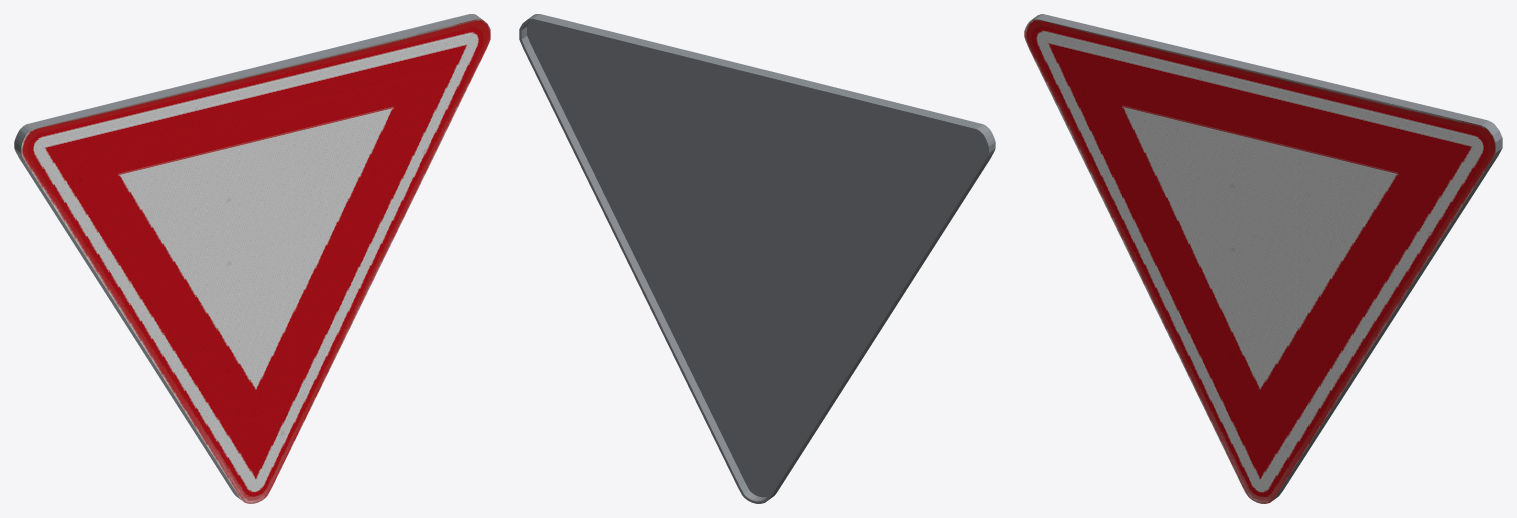
The picture shows the model from 3 angles, left to right: view 1: azimuth 30°, elevation 25°; view 2: azimuth 150°, elevation 25°; view 3: azimuth 330°, elevation 25°; orthographic projection.
Parts seen in each view (by area): view 1: cat_7ec01eb12187f832; view 2: cat_7ec01eb12187f832; view 3: cat_7ec01eb12187f832.
Part boxes in pixels (left/top/right/bottom): cat_7ec01eb12187f832: left=14, top=14, right=490, bottom=503; cat_7ec01eb12187f832: left=519, top=14, right=995, bottom=503; cat_7ec01eb12187f832: left=1024, top=14, right=1502, bottom=503.
Size of the model in its own units: 0.6 by 0.015 by 0.5256.
Materials: 2 (1 with a texture image).
